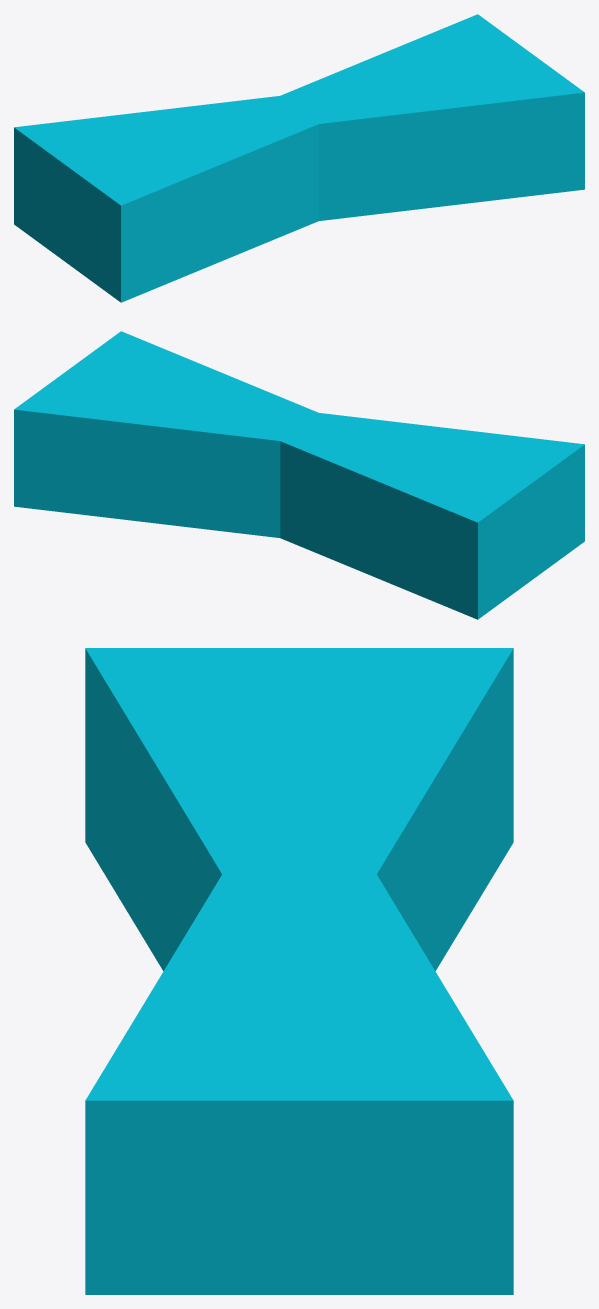
The model's file is RunPart-__.fbx.
3 renders of one model, top to bottom at view 1: azimuth 30°, elevation 25°; view 2: azimuth 150°, elevation 25°; view 3: azimuth 270°, elevation 25°, orthographic. The views are drawn at different scales.
Visible parts, largest first — view 1: RunPart - ><; view 2: RunPart - ><; view 3: RunPart - ><.
Part boxes in pixels (x1=…): RunPart - ><: x1=14, y1=14, x2=584, y2=302; RunPart - ><: x1=14, y1=331, x2=584, y2=619; RunPart - ><: x1=85, y1=648, x2=513, y2=1294.
Size of the model in its own units: 1000 by 200 by 400.
